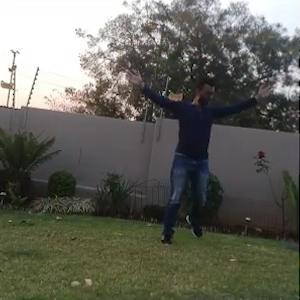takeoff: (125, 65, 273, 255)
